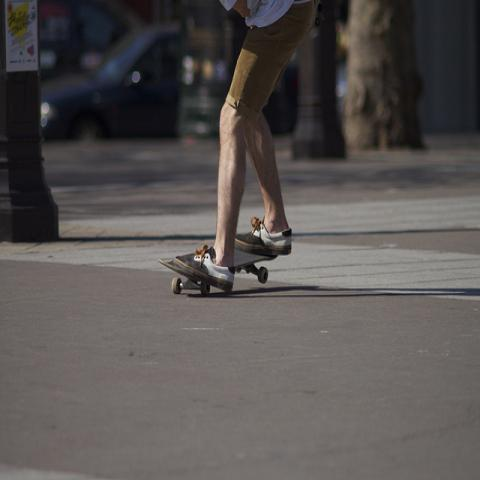car: (40, 21, 185, 141)
